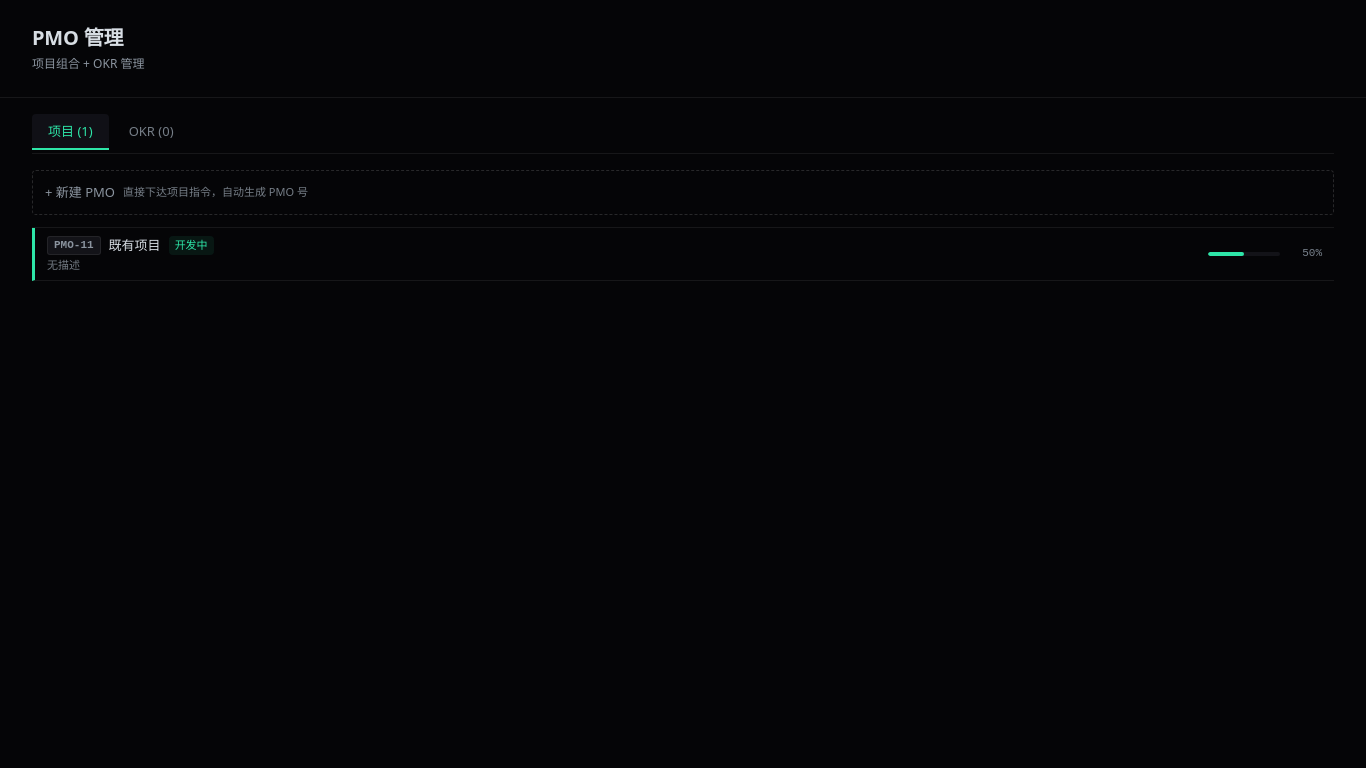
PMO-a: 新建 PMO 表单 › 打开表单 → 填写 → 提交调 projectApi.create 且参数正确 → 列表刷新
The width and height of the screenshot is (1366, 768).
Expected: the text "既有项目" is shown, [109,236,161,254]
Click the text "+ 新建 PMO" at [80, 192], box [45,183,115,202]
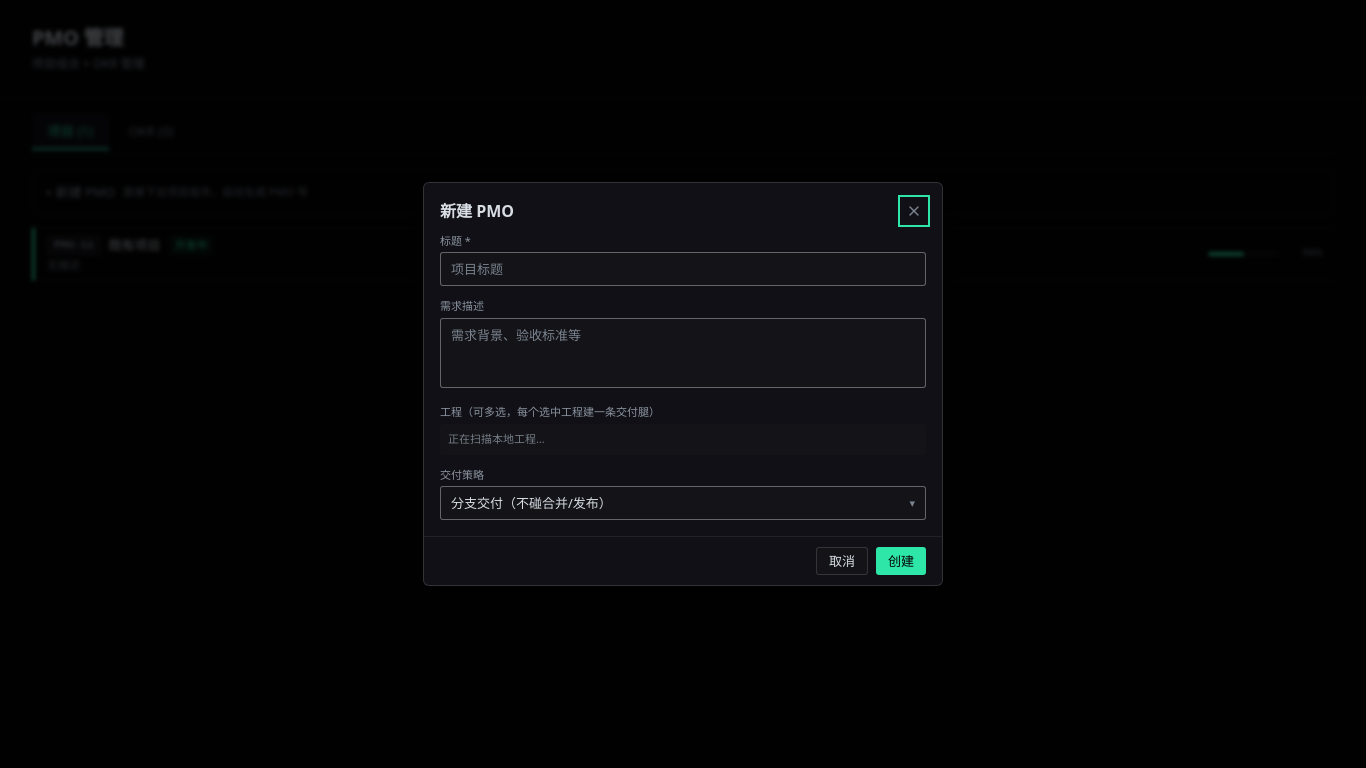
Expected: the field with placeholder "项目标题" is shown
Type "证据链看板" into the field with placeholder "项目标题" at [683, 269], box [440,252,926,286]
Type "展示 L1/L2/L3 证据" into the text box with placeholder "需求背景、验收标准等" at [683, 353], box [440,318,926,388]
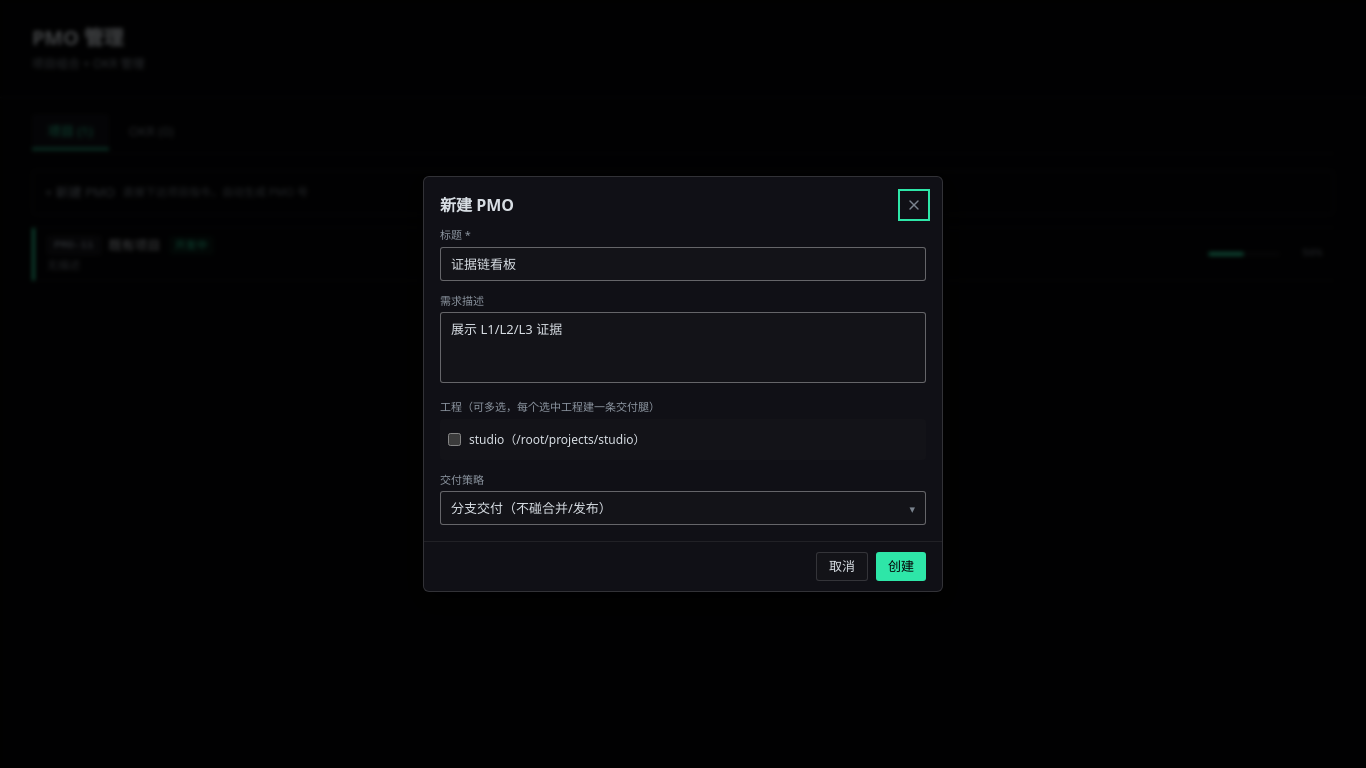
// 工程多选（#114）：勾选扫描到的工程（打开弹窗时触发 discoverProjects 扫描）；单个选中仍走旧 gitRepo 入参
Click the checkbox labelled "studio（/root/projects/studio）" at [454, 439], box [448,433,461,446]
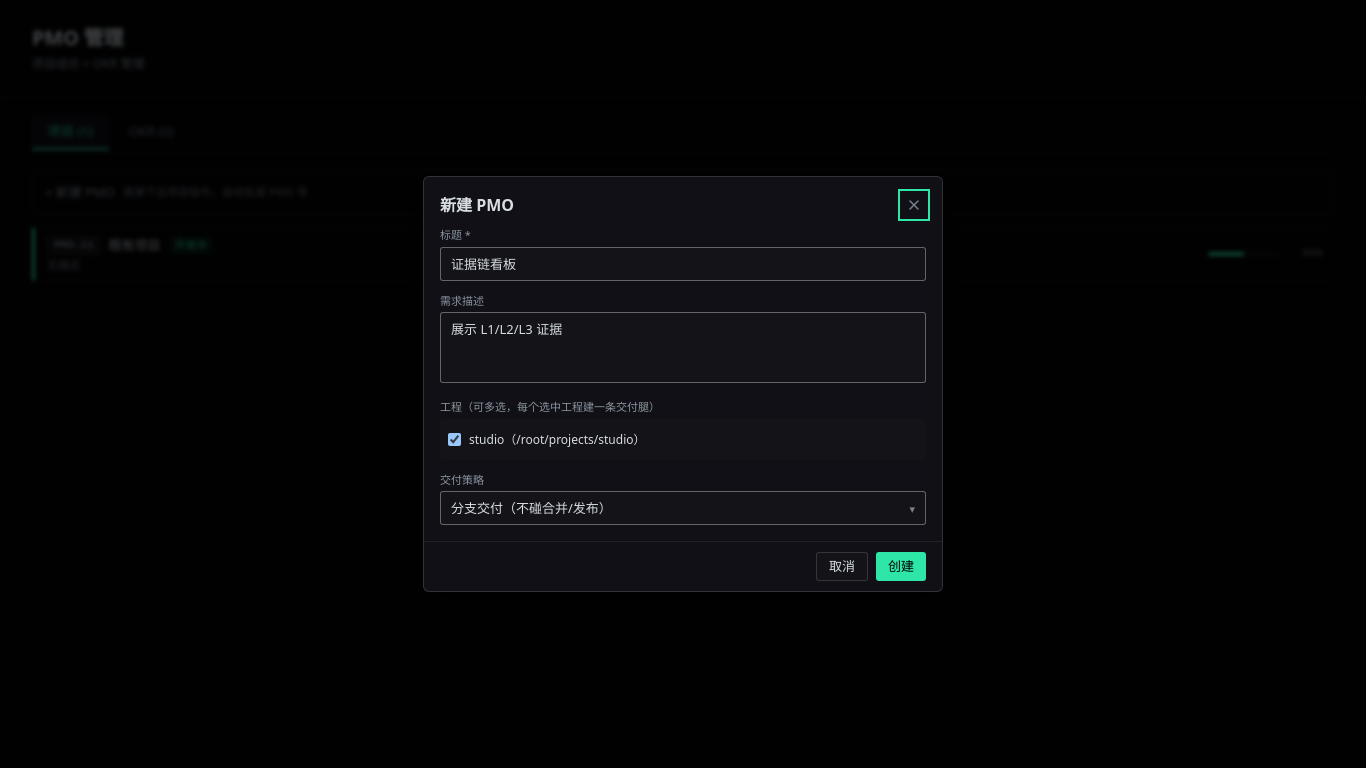
// 自定义 Select：触发器按钮显示当前项，点开后选目标项
Click the button "分支交付（不碰合并/发布） ▾" at [531, 508], box [440,491,926,525]
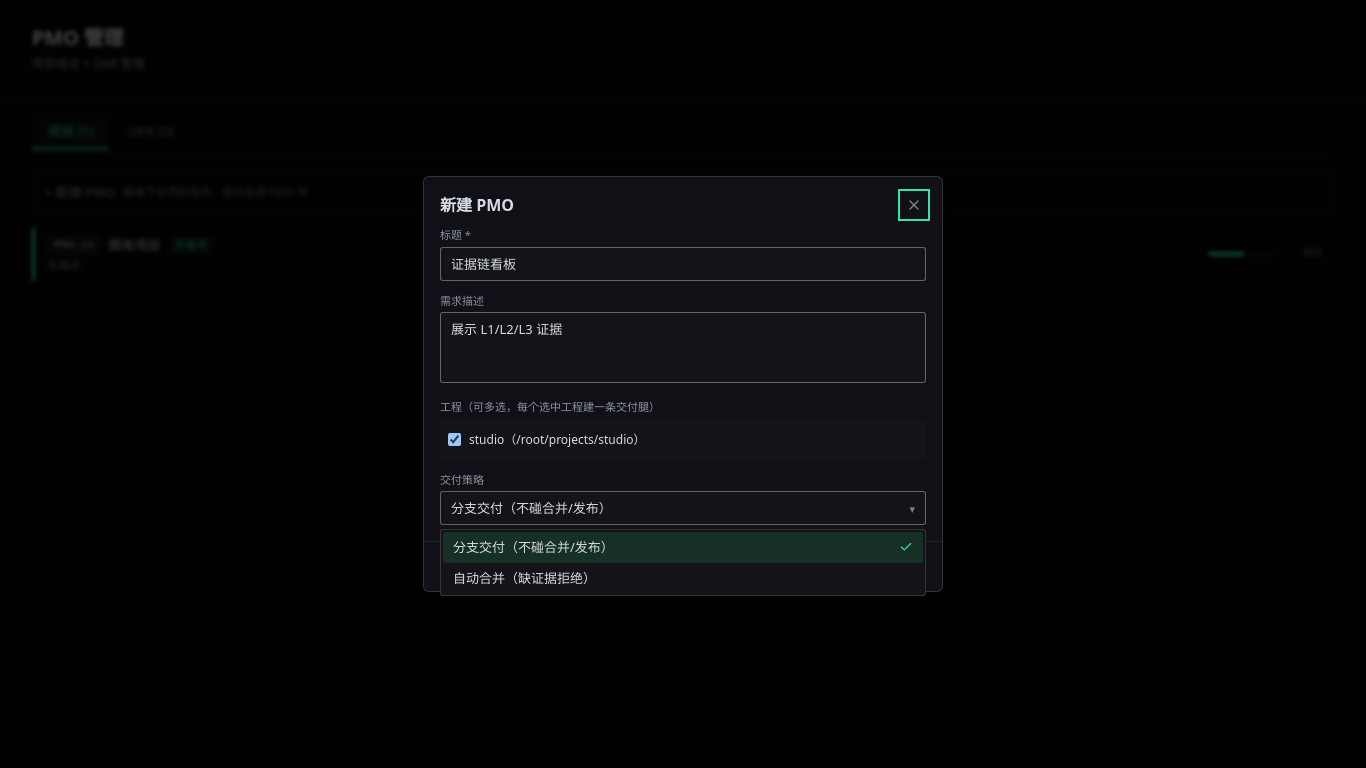
Click the option "自动合并（缺证据拒绝）" at [524, 578], box [453,568,596,586]
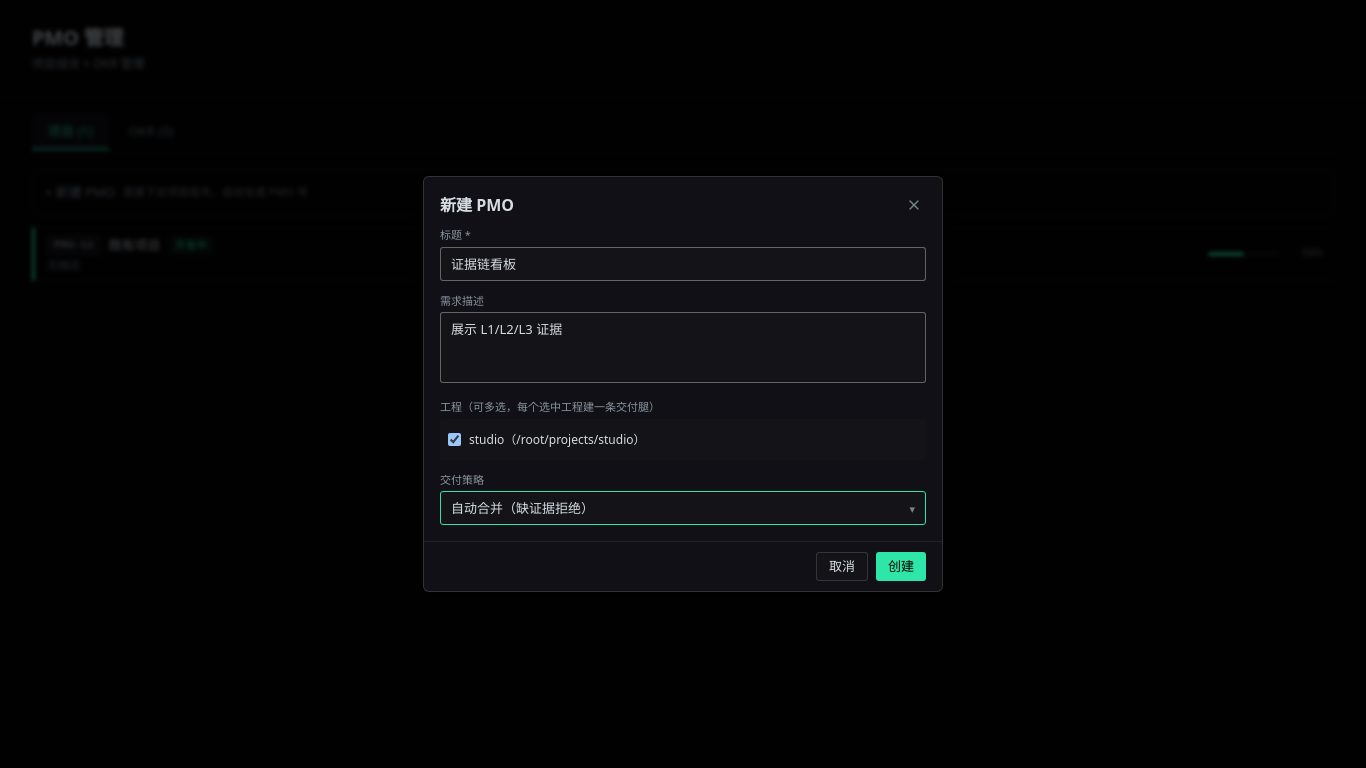
Click the button "创建" at [901, 566], box [876,552,926,580]
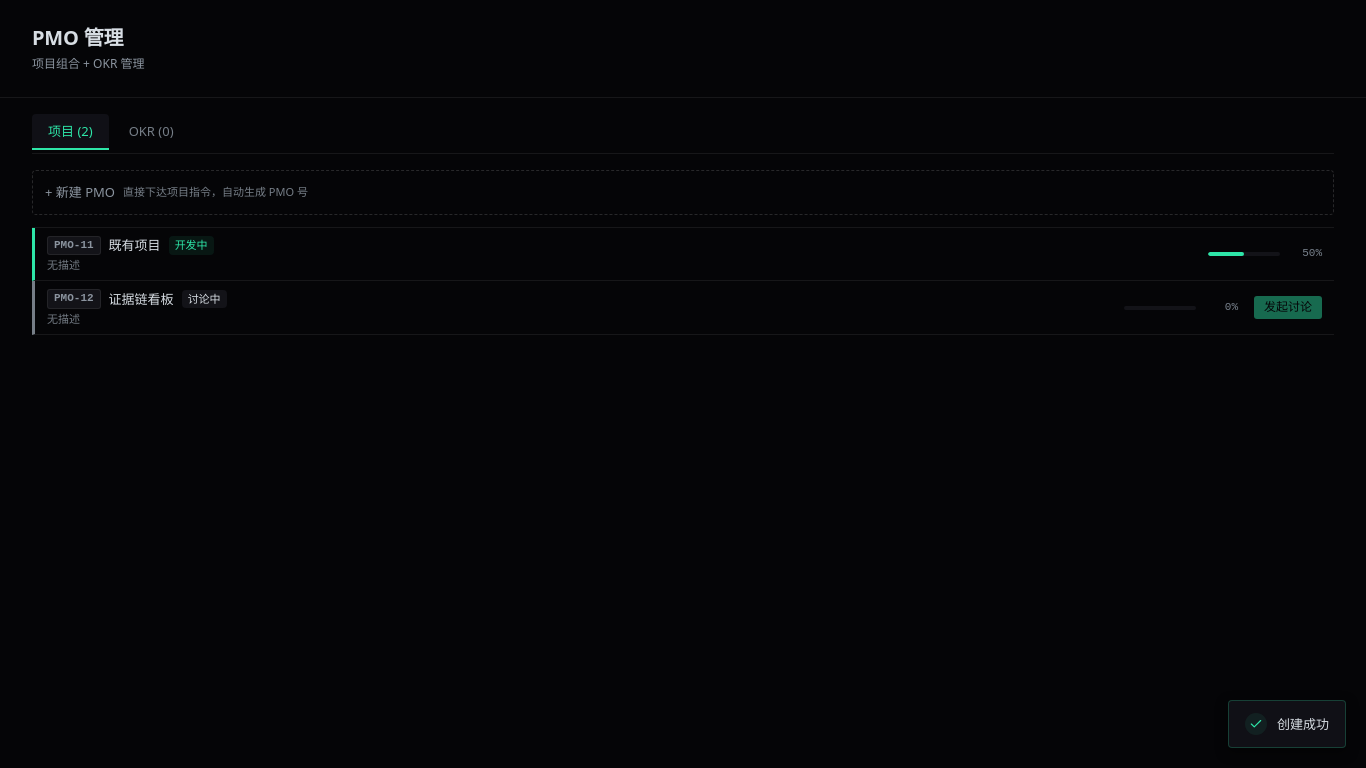
Expected: the text "PMO-12" is shown, [47,289,101,309]
Expected: the field with placeholder "项目标题" is gone
